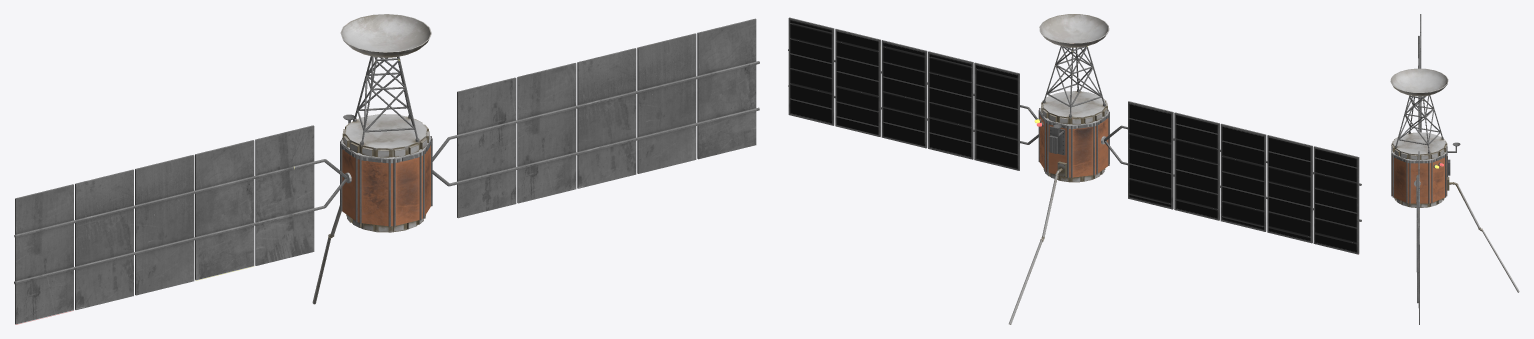
Rendered from satellite.glb.
The picture shows the model from 3 angles, left to right: view 1: azimuth 30°, elevation 25°; view 2: azimuth 150°, elevation 25°; view 3: azimuth 270°, elevation 25°; orthographic projection. The views are drawn at different scales.
Visible parts, largest first — view 1: Object_2; view 2: Object_2; view 3: Object_2.
Boxes of the visible parts, bbox=[...] form: Object_2: bbox=[14, 14, 759, 324]; Object_2: bbox=[788, 14, 1361, 324]; Object_2: bbox=[1390, 14, 1519, 324].
Size of the model in its own units: 18.55 by 7.85 by 4.37.
Materials: 1 (1 with a texture image).
